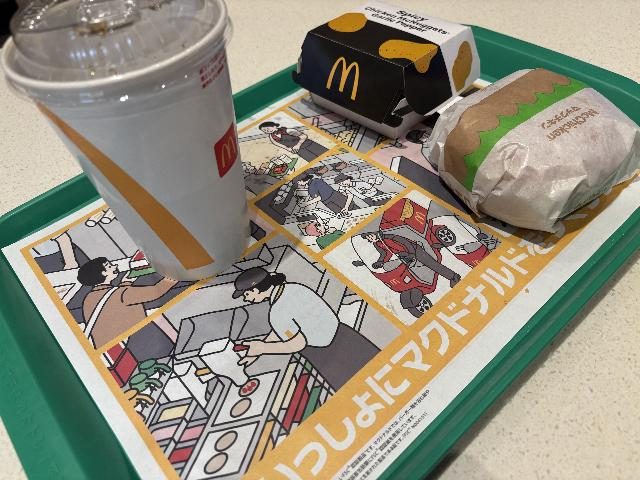burger: (428, 67, 640, 234)
drink: (0, 0, 254, 285)
nuggets: (291, 1, 481, 141)
